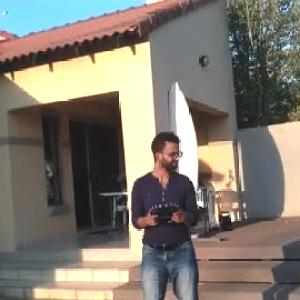follow: (128, 125, 206, 299)
